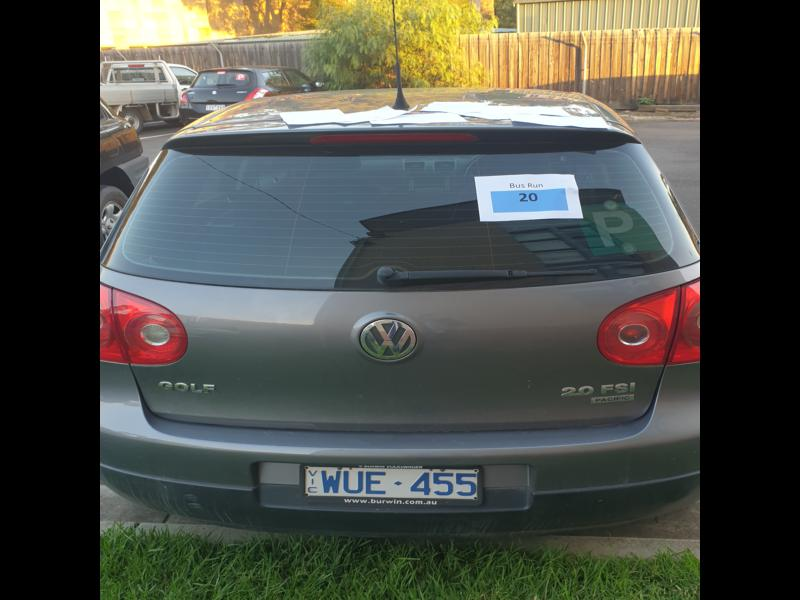BusRun: (492, 189, 568, 211)
PlateNo: (301, 464, 481, 502)
